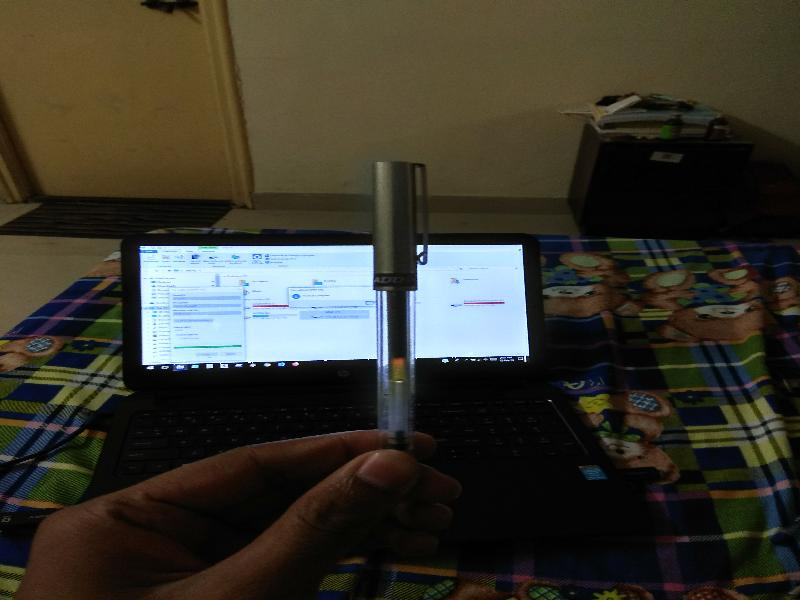pen: (360, 156, 435, 484)
